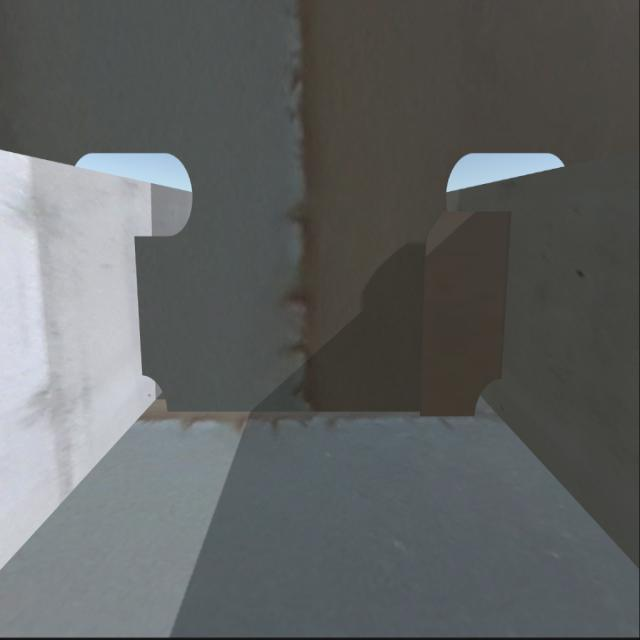fillet_hole: (473, 374, 505, 422), (140, 374, 170, 416)
fillet_yong_jeop_jang: (167, 412, 475, 420)
longi_yong_jeop_jang: (495, 216, 513, 372), (132, 237, 149, 376)
plate_CP03: (422, 214, 508, 412)
